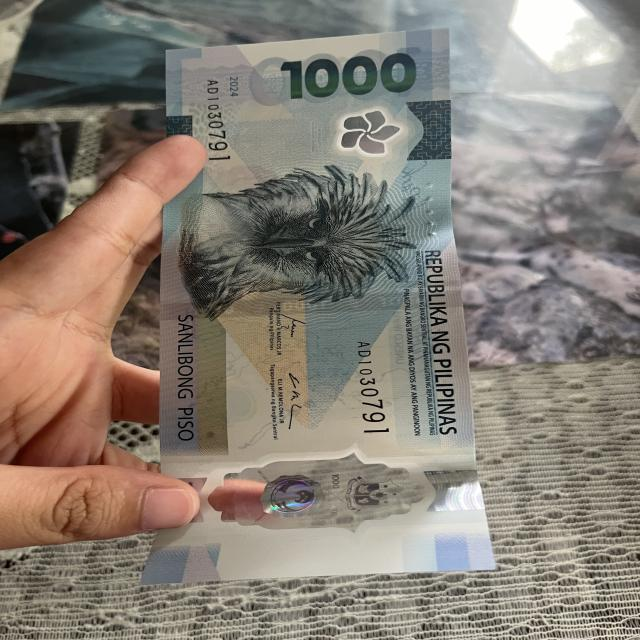clear_window: (194, 457, 442, 539)
eagle: (182, 168, 395, 301)
sampaguita: (308, 103, 411, 158)
security_thread: (167, 290, 461, 326)
serial_number: (352, 328, 391, 446), (195, 70, 239, 166)
